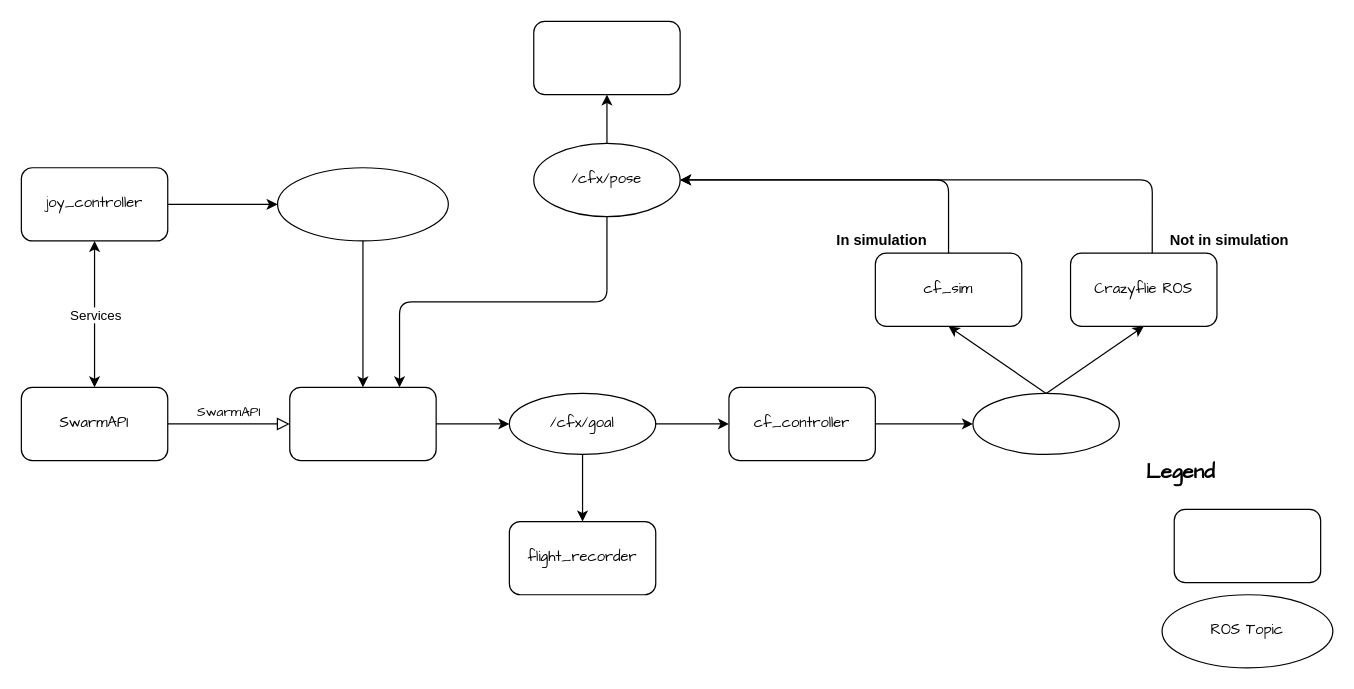
This 1354x689 diagram has some shape labels left out. The centre of each missing label's shape, as x and y in pixels:
"/cfx/cmd_position" goes at point 1045,423.
"/joy_swarm_vel" goes at point 362,204.
"cf_broadcaster" goes at point 606,57.
"ROS Node" goes at point 1247,545.
"swarm_controller" goes at point 362,423.
